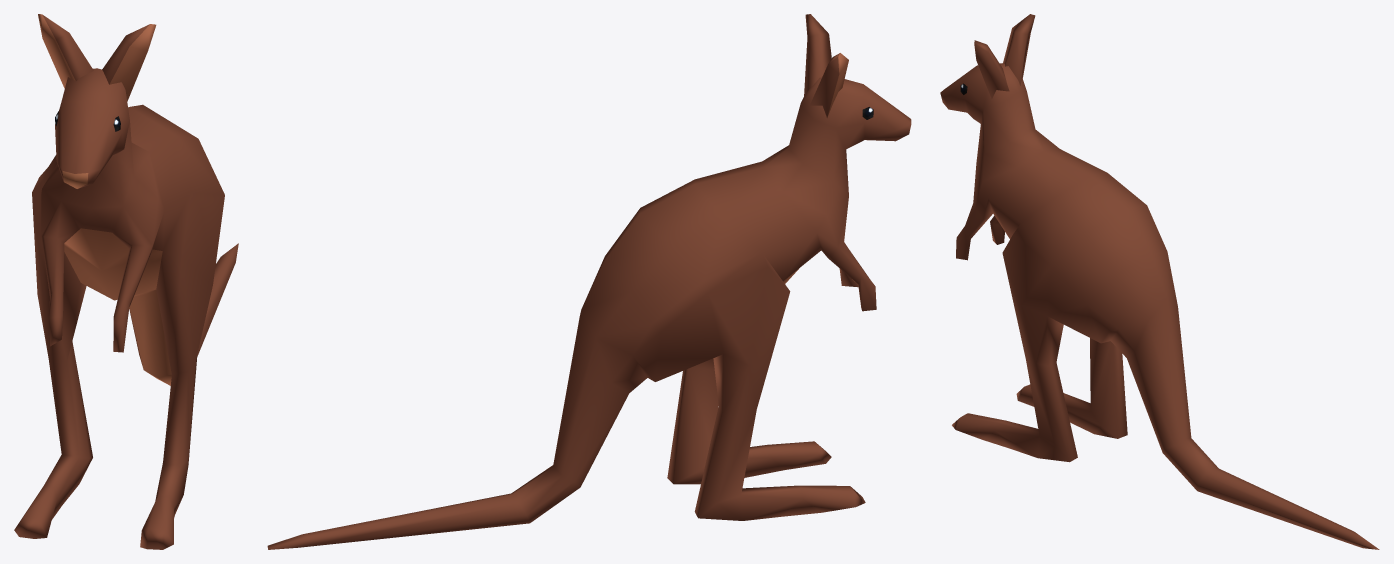
File: Kangaroo02.glb
3 views of the same model, side by side, from view 1: azimuth 30°, elevation 25°; view 2: azimuth 150°, elevation 25°; view 3: azimuth 270°, elevation 25° (orthographic). The views are drawn at different scales.
Parts seen in each view (by area): view 1: Kangaroo02; view 2: Kangaroo02; view 3: Kangaroo02.
Boxes of the visible parts, left/top/right/bottom form: Kangaroo02: left=14, top=14, right=238, bottom=549; Kangaroo02: left=267, top=14, right=911, bottom=549; Kangaroo02: left=940, top=14, right=1379, bottom=549.
Size of what is drawn, in the model's own units: 1.74 by 1.89 by 1.93.
Materials: 1 (1 with a texture image).
